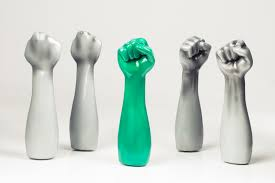fist: (112, 40, 154, 78), (214, 43, 255, 80), (26, 32, 59, 69), (182, 37, 211, 75), (74, 32, 98, 68)
